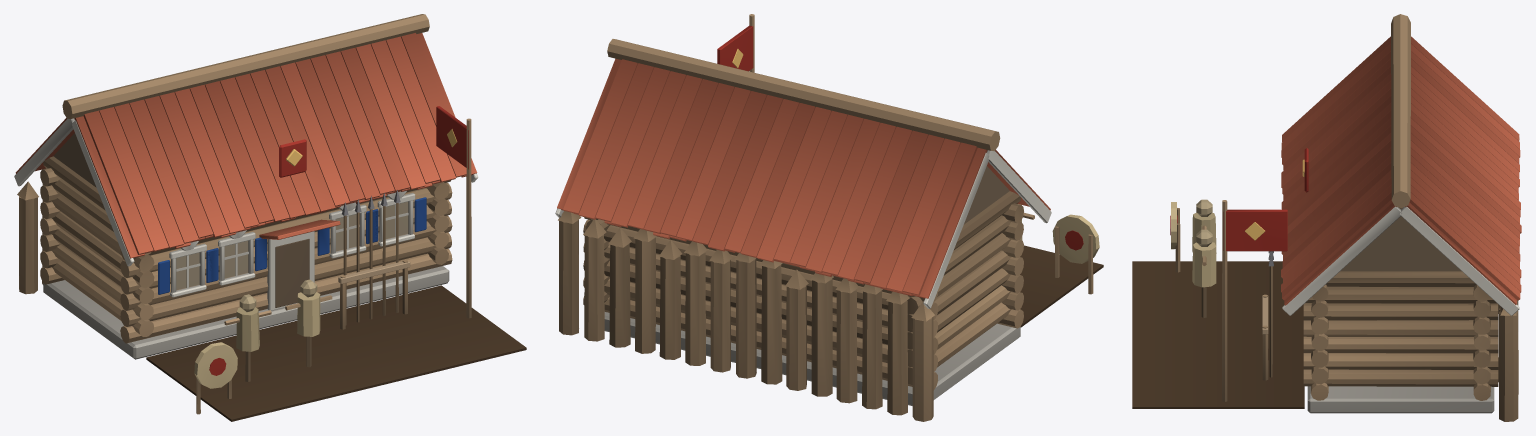
File: bld_kazarma_e1.glb
The picture shows the model from 3 angles, left to right: view 1: azimuth 30°, elevation 25°; view 2: azimuth 150°, elevation 25°; view 3: azimuth 270°, elevation 25°; orthographic projection. The views are drawn at different scales.
Visible parts, largest first — view 1: kazarma; view 2: kazarma; view 3: kazarma.
Boxes of the visible parts, x1=… form: kazarma: x1=14, y1=14, x2=526, y2=421; kazarma: x1=555, y1=14, x2=1103, y2=421; kazarma: x1=1132, y1=14, x2=1521, y2=421.
Size of the model in its own units: 2.06 by 1.3 by 1.92.
